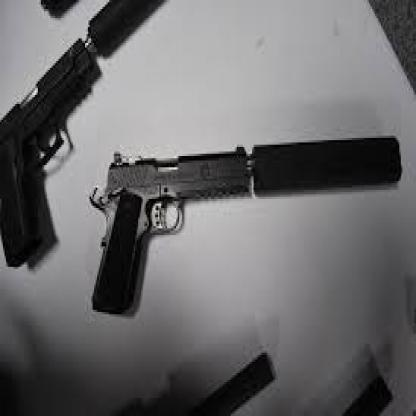Pistol: (82, 140, 254, 321)
